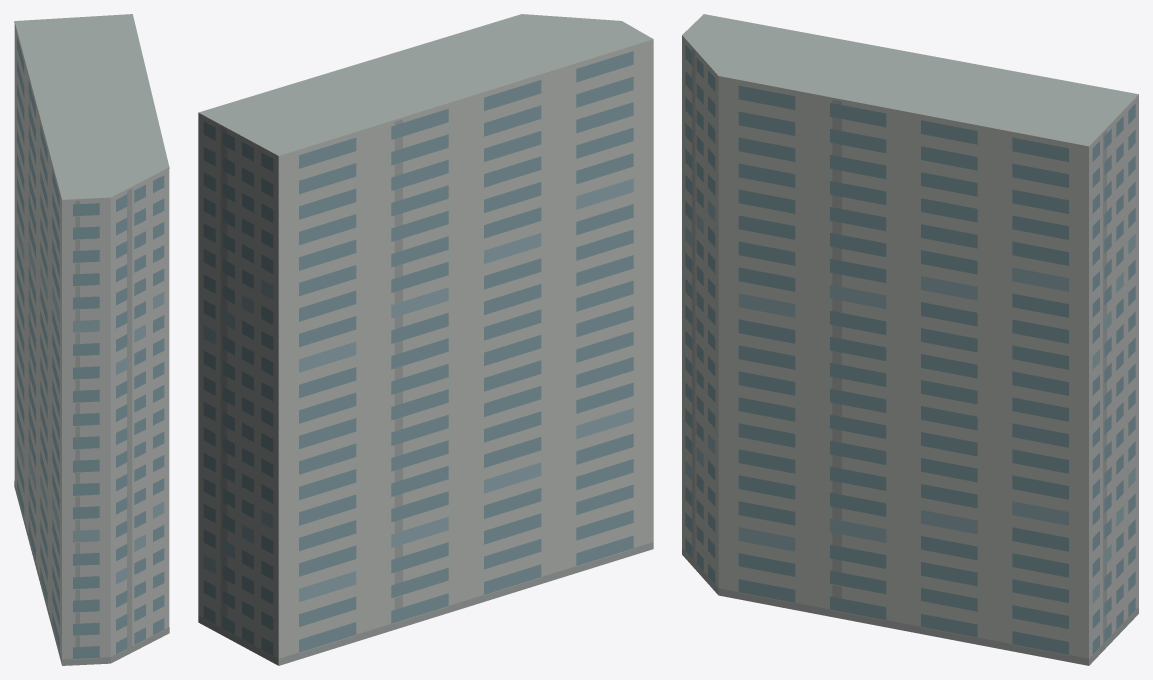
File: residential-84dd75e6-e0d0-4615-961a-7730a11e3557.glb
The picture shows the model from 3 angles, left to right: view 1: azimuth 30°, elevation 25°; view 2: azimuth 150°, elevation 25°; view 3: azimuth 270°, elevation 25°; orthographic projection. The views are drawn at different scales.
Parts seen in each view (by area): view 1: residential-84dd75e6-e0d0-4615-961a-7730a11e3557.tmp; view 2: residential-84dd75e6-e0d0-4615-961a-7730a11e3557.tmp; view 3: residential-84dd75e6-e0d0-4615-961a-7730a11e3557.tmp.
Boxes of the visible parts, x1,y1,x2,y2 form: residential-84dd75e6-e0d0-4615-961a-7730a11e3557.tmp: (14,14,169,665); residential-84dd75e6-e0d0-4615-961a-7730a11e3557.tmp: (198,14,653,665); residential-84dd75e6-e0d0-4615-961a-7730a11e3557.tmp: (682,14,1138,665).
Size of the model in its own units: 34.99 by 64 by 51.02.
